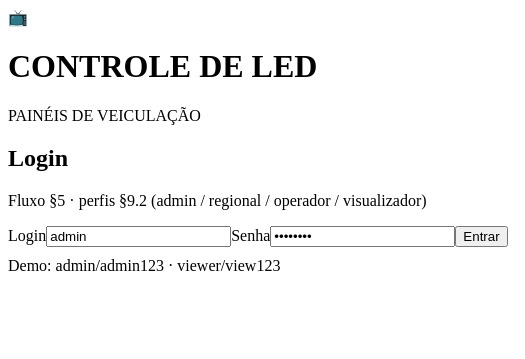
Login component › mostra erro quando o login falha
Click the button "Entrar" at (481,236), box [455, 226, 508, 247]
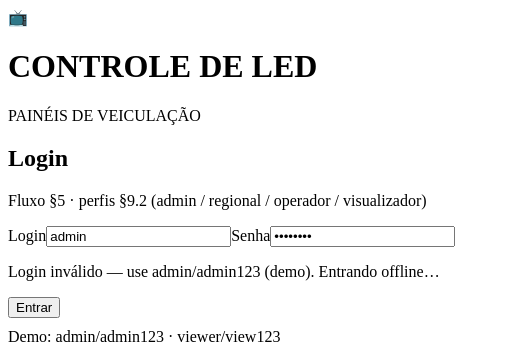
Check: the text "Login inválido — use admin/admin123 (demo). Entrando offline…" is shown, box [8, 263, 440, 280]
